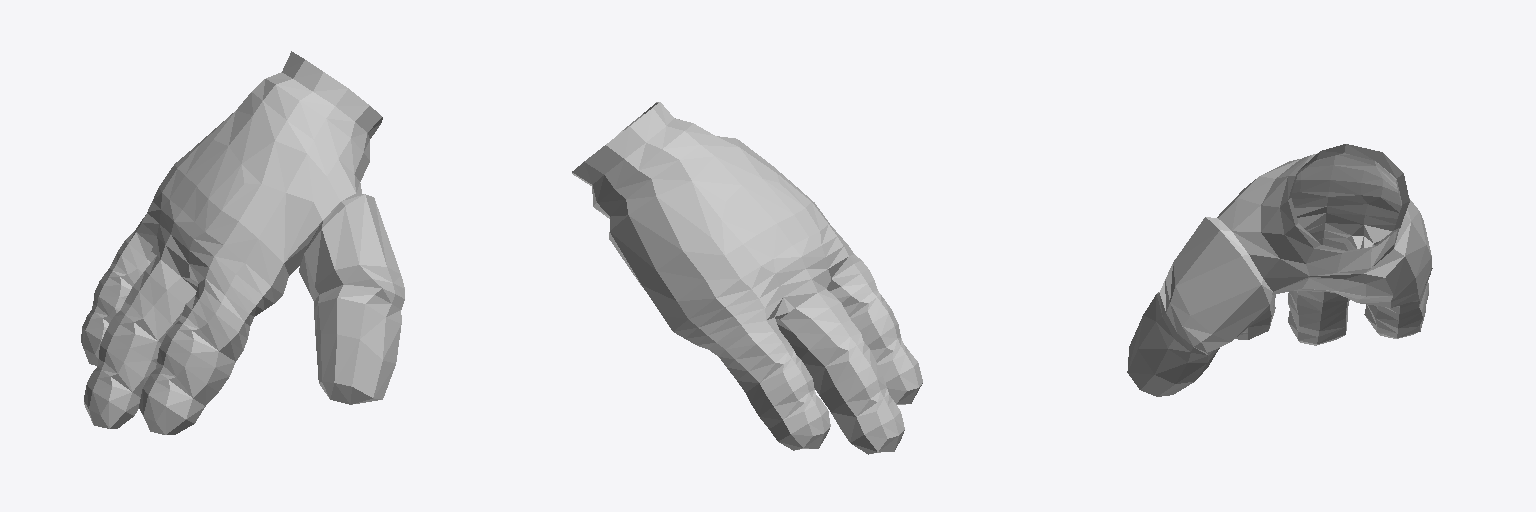
Rendered from Glove.obj.
3 renders of one model, left to right at view 1: azimuth 30°, elevation 25°; view 2: azimuth 150°, elevation 25°; view 3: azimuth 270°, elevation 25°, orthographic.
Parts seen in each view (by area): view 1: polySurface1119 polySurface703; view 2: polySurface1119 polySurface703; view 3: polySurface1119 polySurface703.
Part boxes in pixels (x1,y1,x2,y2): polySurface1119 polySurface703: (81, 51, 404, 434); polySurface1119 polySurface703: (572, 102, 922, 454); polySurface1119 polySurface703: (1127, 144, 1432, 396).
Size of the model in its own units: 26.28 by 25.64 by 23.28.